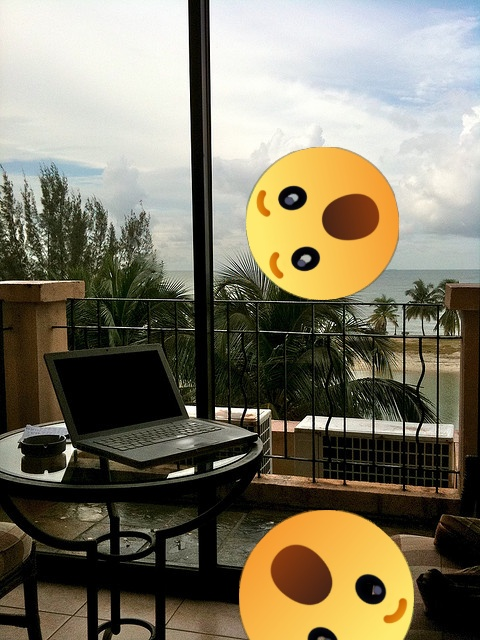wow: (246, 147, 399, 300), (239, 510, 414, 640)
